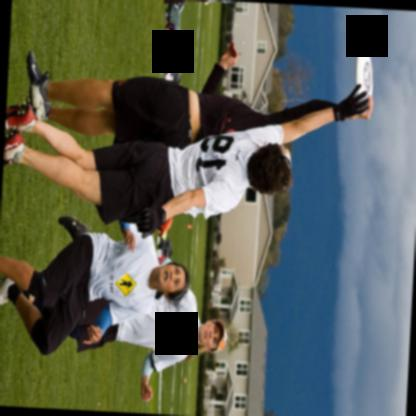backpack: (165, 3, 180, 50), (172, 58, 180, 84)
